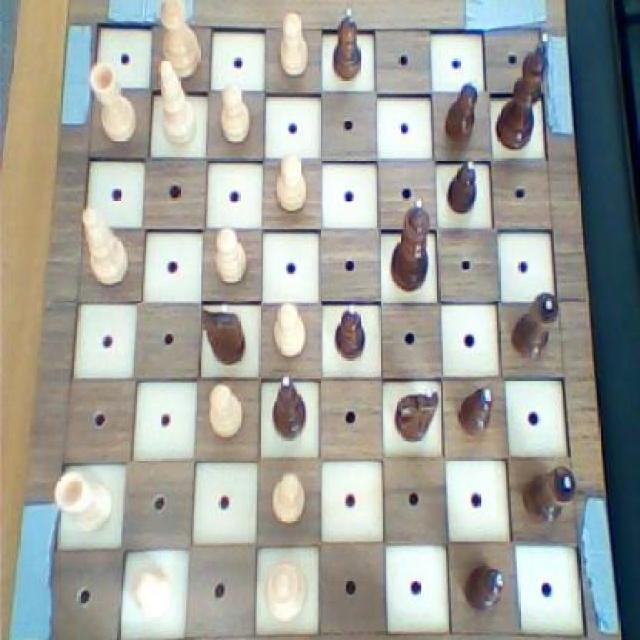bishop: (266, 372, 310, 441)
black-bishop: (491, 28, 550, 152)
black-king: (197, 300, 251, 371), (388, 380, 442, 447)
black-knight: (443, 77, 480, 146), (329, 8, 363, 83), (461, 558, 507, 612), (330, 300, 368, 362), (454, 383, 496, 439), (443, 157, 478, 216)
black-pawn: (389, 192, 434, 292)
black-queen: (515, 462, 578, 530), (511, 288, 559, 363)
black-rook: (78, 205, 130, 290), (154, 57, 198, 149)
white-bishop: (151, 0, 206, 81)
white-knight: (128, 563, 177, 623), (274, 9, 311, 81), (214, 224, 252, 292), (205, 380, 246, 442), (269, 300, 309, 362), (214, 79, 251, 146), (266, 472, 307, 532), (274, 148, 307, 215)
white-pawn: (263, 559, 308, 623)
white-queen: (86, 59, 139, 143), (51, 468, 113, 534)
